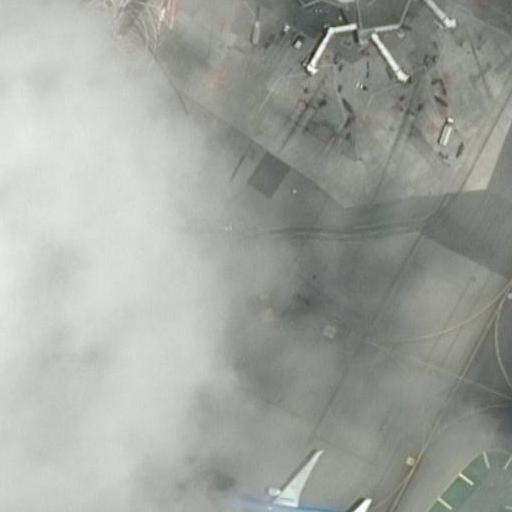Aircraft: (210, 451, 376, 512)
